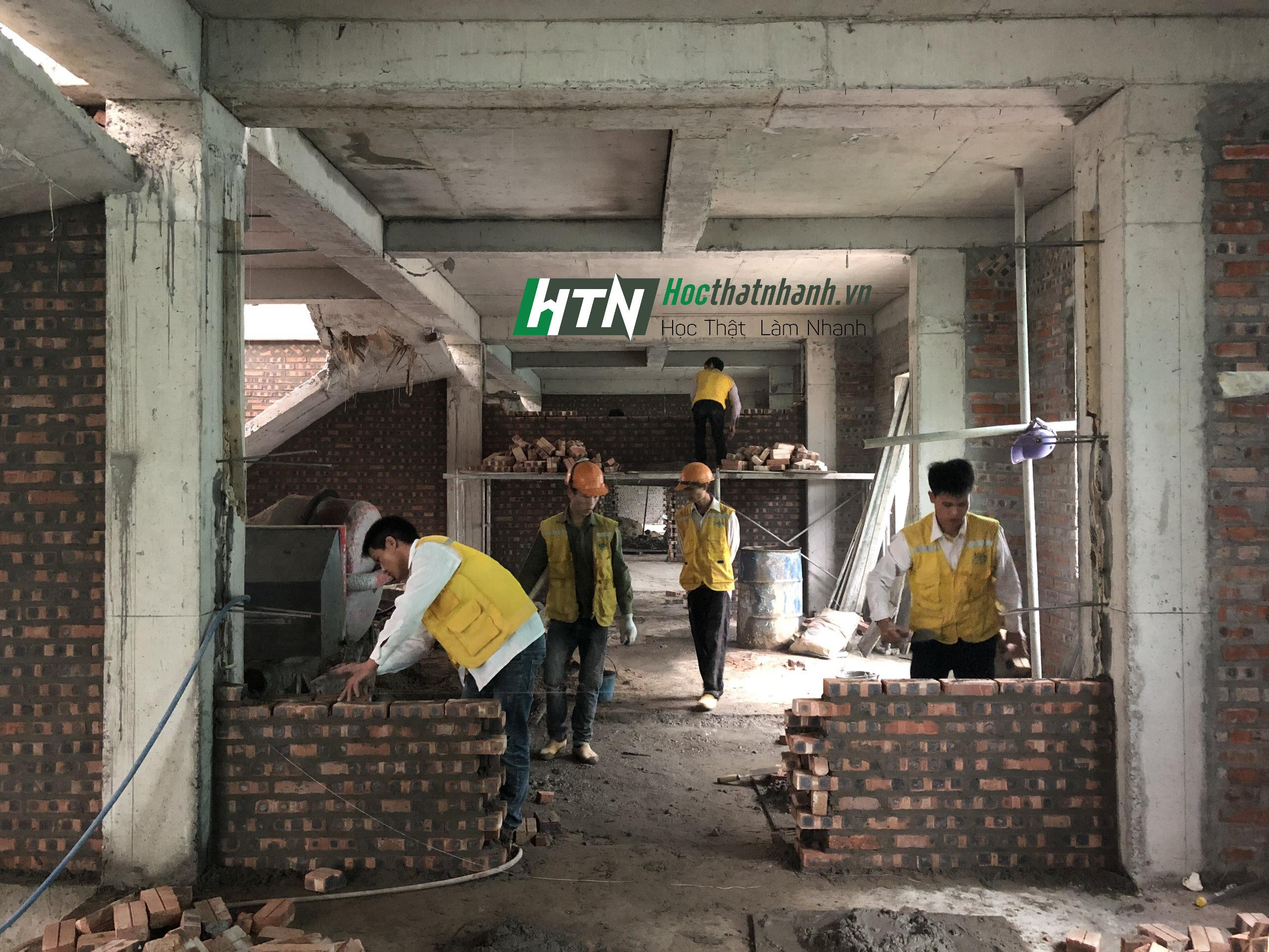Gloves: (617, 615, 637, 646)
Helmet: (565, 458, 608, 499), (669, 461, 714, 492)
Person: (331, 515, 547, 846), (864, 458, 1030, 679), (530, 457, 650, 761), (672, 462, 741, 711), (689, 356, 741, 468)
Safety Boot: (538, 733, 569, 759), (697, 687, 717, 716), (570, 743, 598, 763)
Safety Vest: (908, 524, 1006, 639), (542, 512, 621, 622), (672, 504, 734, 589), (695, 372, 730, 408)
bare-arms: (329, 662, 381, 701)
no-helmet: (354, 512, 412, 558), (924, 457, 976, 487), (704, 354, 725, 370)
no-vest: (409, 540, 532, 677)
